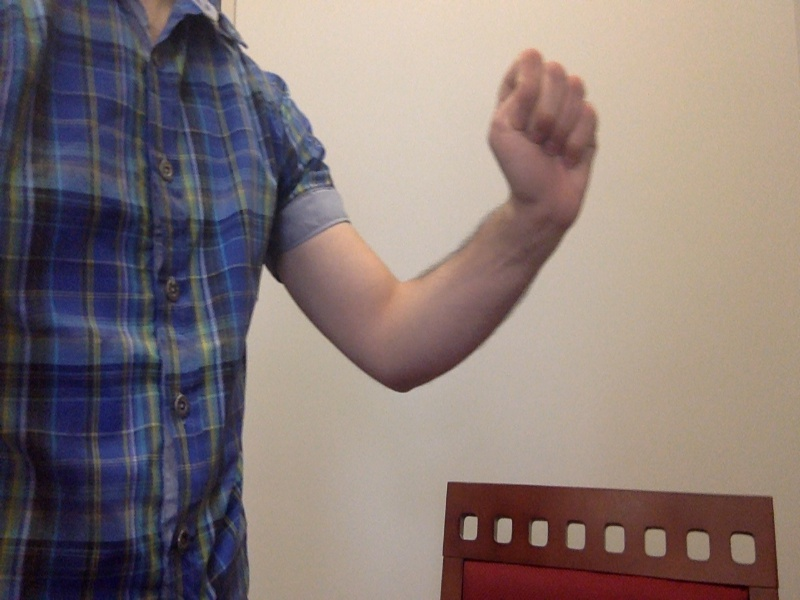0-hand: (491, 49, 602, 208)
